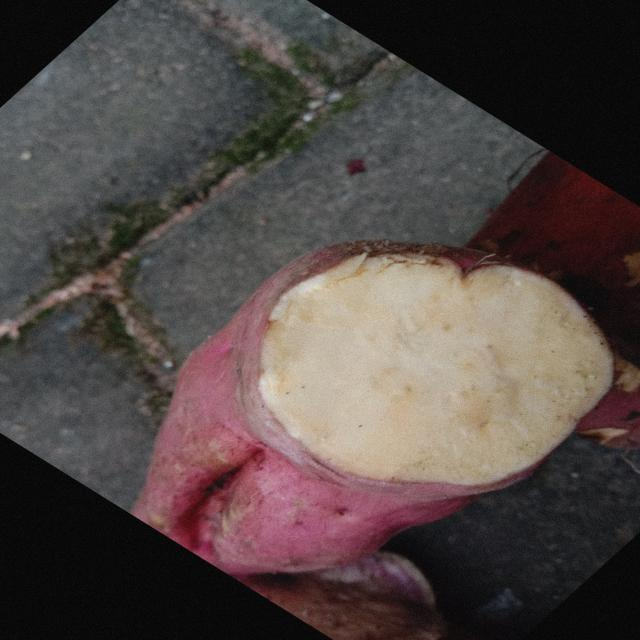Healthy Sweet Potato: (260, 255, 613, 485)
